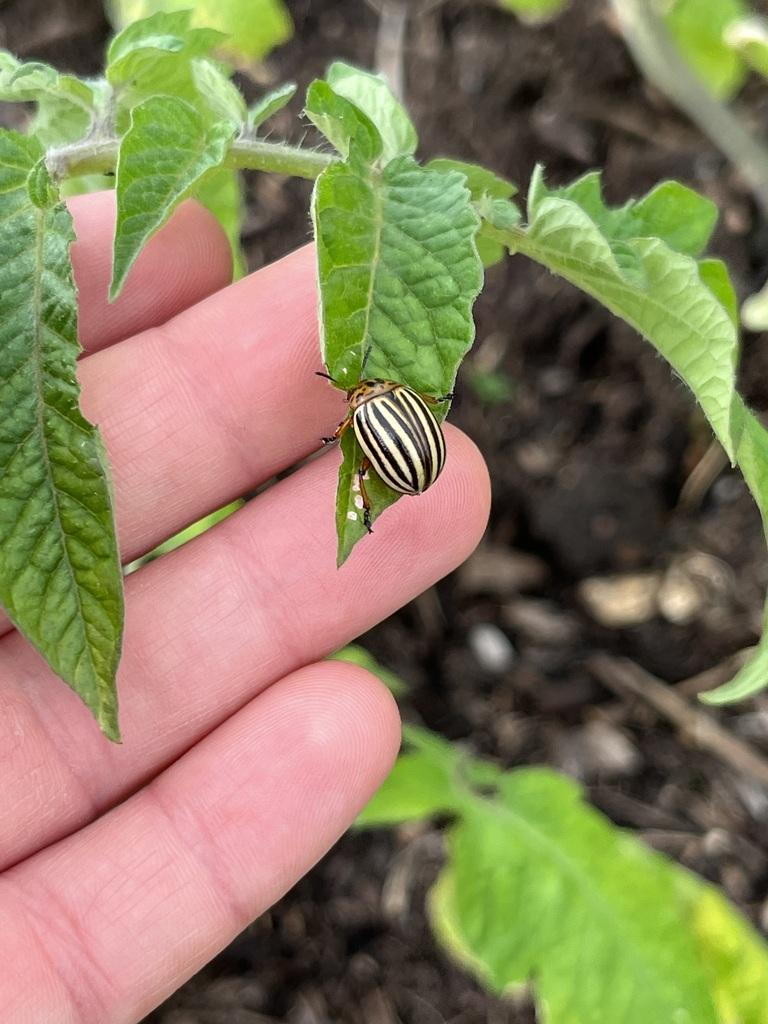potato_beetle: (299, 331, 474, 524)
